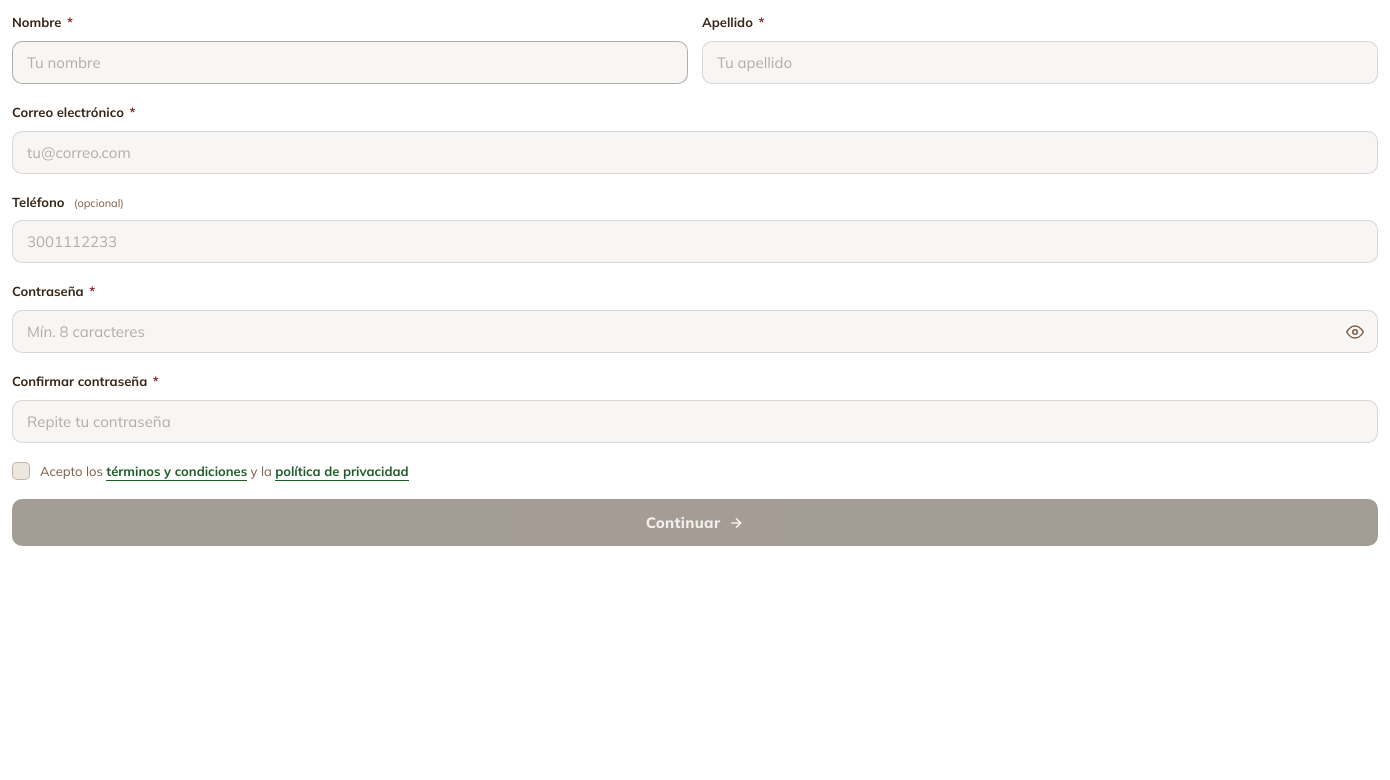
Test case: PersonalDataStepComponent › shows password strength meter when password is entered
This screenshot has width=1390, height=780.
Type "pass" into the password field with id "reg-password" at (695, 332), box [12, 310, 1378, 353]
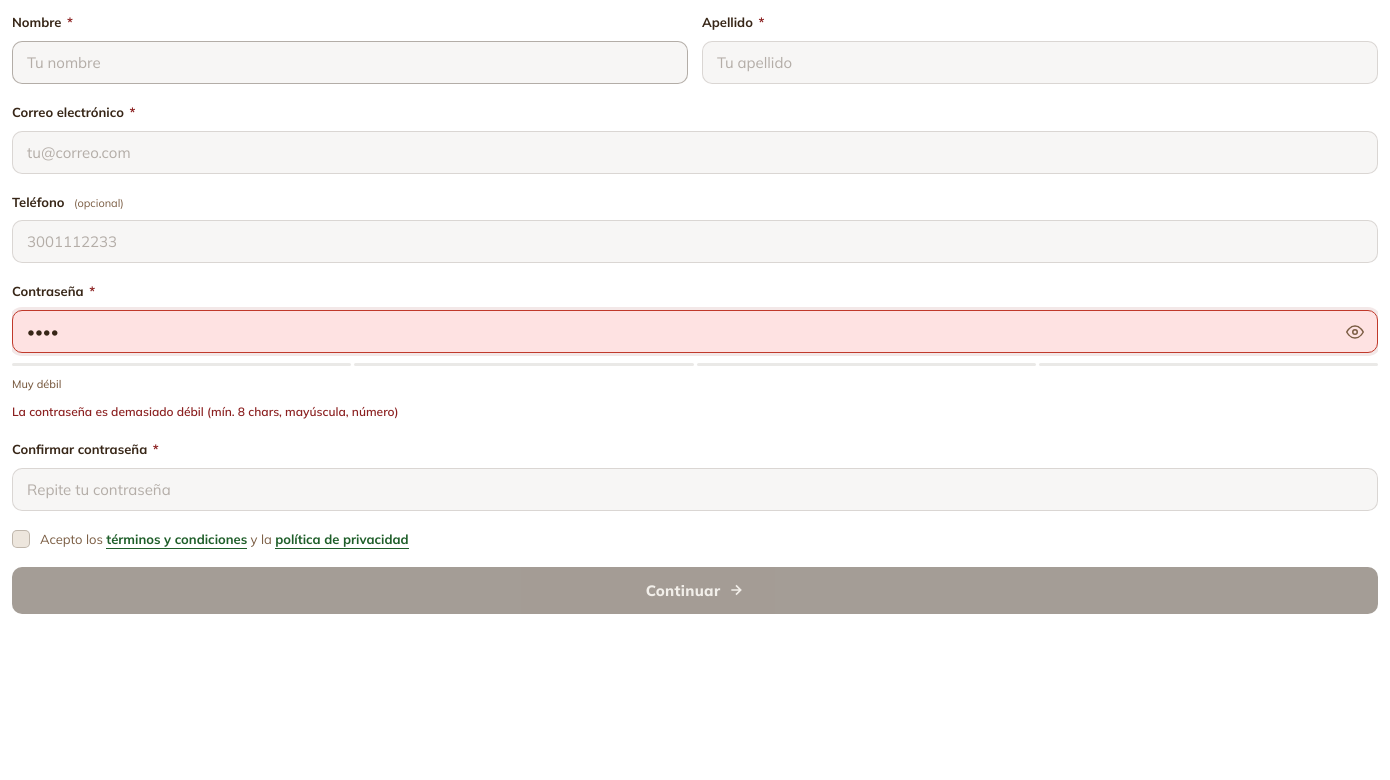
Result: the message "Muy débil" is shown at [12, 363, 1378, 396]
